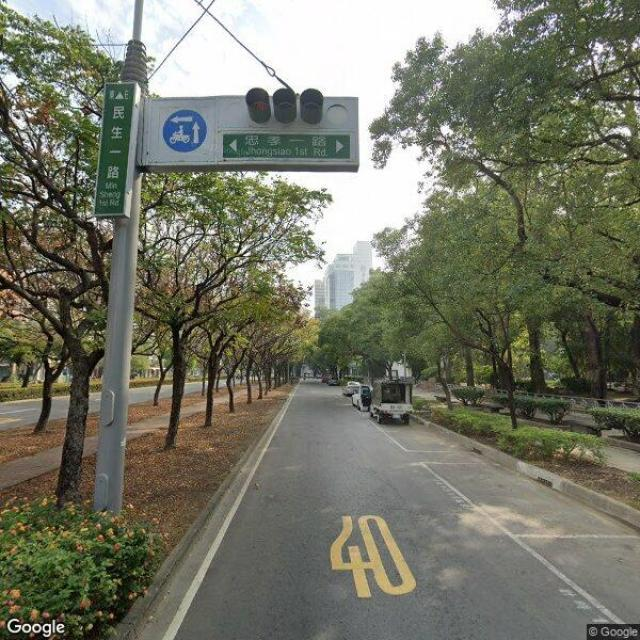Legalparking: (343, 378, 411, 423)
